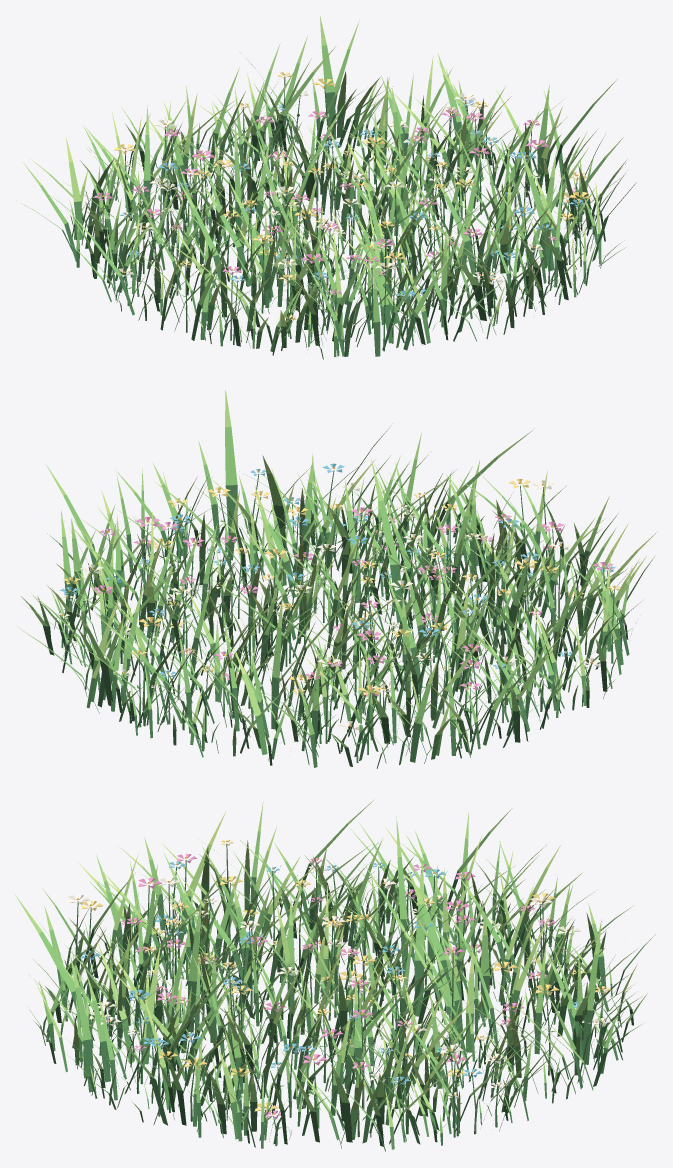
The model's file is Meadow_03_Mixed.glb.
The picture shows the model from 3 angles, top to bottom: view 1: azimuth 30°, elevation 25°; view 2: azimuth 150°, elevation 25°; view 3: azimuth 270°, elevation 25°; orthographic projection. The views are drawn at different scales.
Visible parts, largest first — view 1: Meadow_03_Mixed; view 2: Meadow_03_Mixed; view 3: Meadow_03_Mixed.
Part boxes in pixels (left/top/right/bottom): Meadow_03_Mixed: left=21, top=16, right=636, bottom=359; Meadow_03_Mixed: left=18, top=390, right=657, bottom=768; Meadow_03_Mixed: left=15, top=799, right=655, bottom=1151.
Size of the model in its own units: 3.69 by 0.7242 by 3.44.
